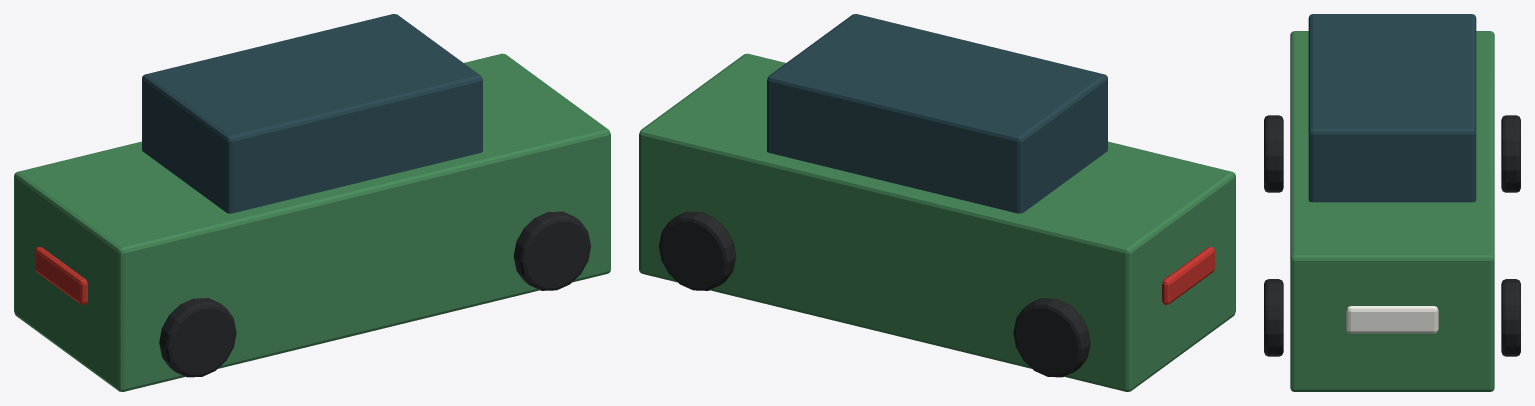
The model's file is Vehicle_005.glb.
3 views of the same model, side by side, from view 1: azimuth 30°, elevation 25°; view 2: azimuth 150°, elevation 25°; view 3: azimuth 270°, elevation 25° (orthographic). The views are drawn at different scales.
Visible parts, largest first — view 1: Vehicle_005; view 2: Vehicle_005; view 3: Vehicle_005.
Part boxes in pixels (left/top/right/bottom): Vehicle_005: left=14, top=14, right=610, bottom=391; Vehicle_005: left=639, top=14, right=1235, bottom=391; Vehicle_005: left=1264, top=14, right=1520, bottom=391.
Bounding box in the file's own units: 5.18 × 2.14 × 2.38.
